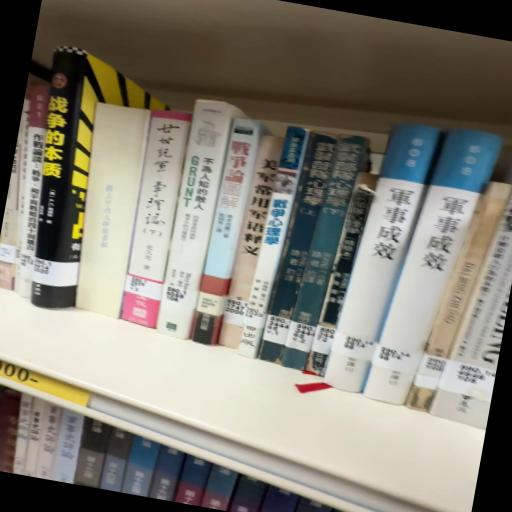backward: (64, 102, 158, 321)
book: (363, 125, 502, 418), (319, 116, 442, 403), (14, 56, 116, 313), (155, 103, 242, 348), (113, 107, 195, 334), (189, 115, 266, 354)
